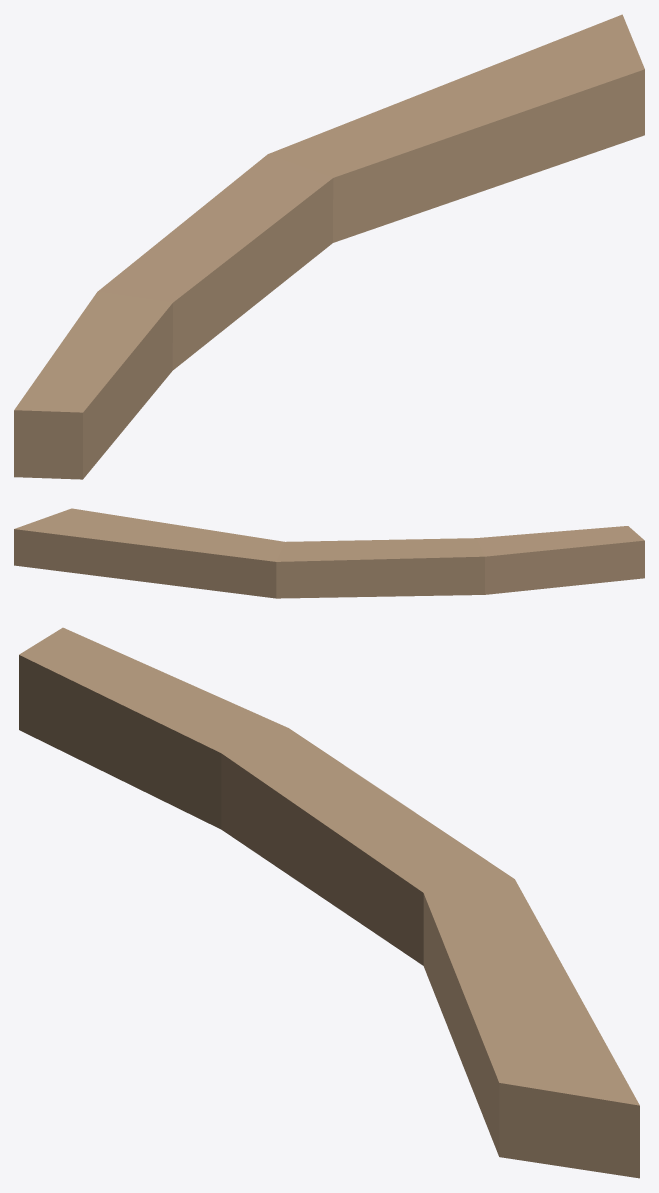
The model's file is lambRibBone.fbx.
The picture shows the model from 3 angles, top to bottom: view 1: azimuth 30°, elevation 25°; view 2: azimuth 150°, elevation 25°; view 3: azimuth 270°, elevation 25°; orthographic projection. The views are drawn at different scales.
Parts seen in each view (by area): view 1: lambRibBone; view 2: lambRibBone; view 3: lambRibBone.
Boxes of the visible parts, box(x1,y1,x2,y2) form: lambRibBone: box(14, 14, 644, 479); lambRibBone: box(14, 508, 644, 598); lambRibBone: box(19, 627, 639, 1178).
Size of the model in its own units: 18.46 by 1.39 by 10.2.
Materials: 1 (1 with a texture image).
